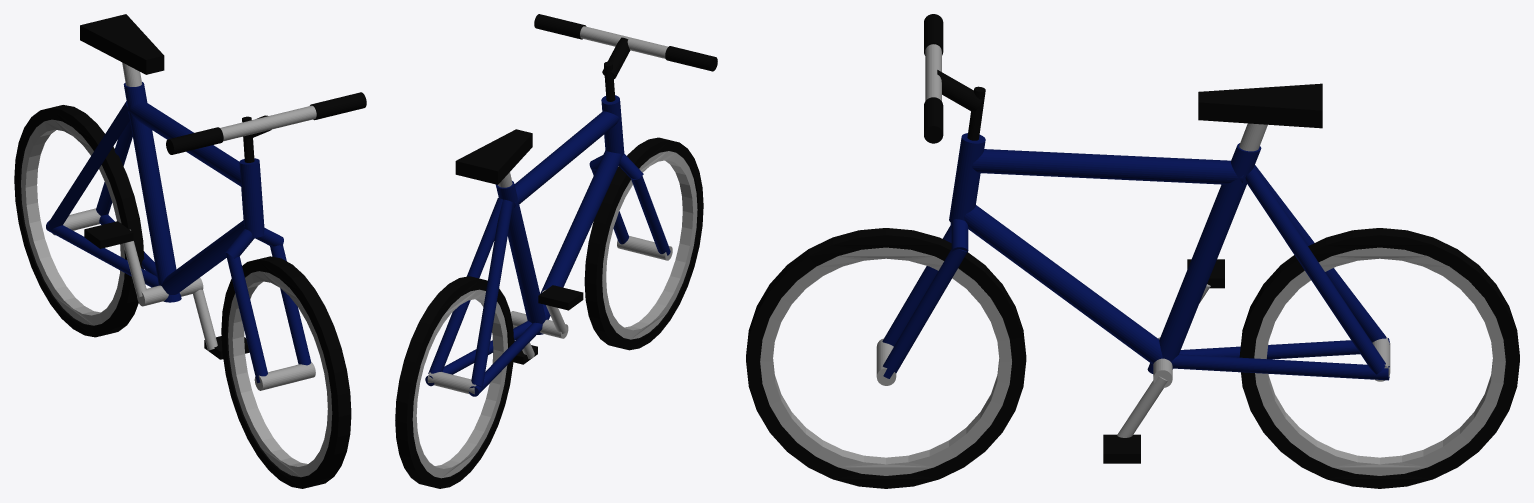
The model's file is bicycle.obj.
3 renders of one model, left to right at view 1: azimuth 30°, elevation 25°; view 2: azimuth 150°, elevation 25°; view 3: azimuth 270°, elevation 25°, orthographic. The views are drawn at different scales.
Parts seen in each view (by area): view 1: Cylinder_8, Circle_5, 2, 7, 1, 6, 4, 3; view 2: Cylinder_8, Circle_5, 2, 7, 1, 6, 3, 4; view 3: Cylinder_8, Circle_5, 2, 1, 6, 7, 3, 4.
Part boxes in pixels (x1=…): Cylinder_8: x1=46, y1=82, x2=310, y2=383; Circle_5: x1=14, y1=105, x2=351, y2=488; 2: x1=21, y1=119, x2=332, y2=477; 7: x1=52, y1=62, x2=316, y2=390; 1: x1=80, y1=14, x2=164, y2=74; 6: x1=166, y1=92, x2=366, y2=162; 4: x1=123, y1=229, x2=217, y2=350; 3: x1=84, y1=221, x2=249, y2=359; Cylinder_8: x1=425, y1=95, x2=670, y2=396; Circle_5: x1=395, y1=137, x2=703, y2=488; 2: x1=412, y1=151, x2=697, y2=478; 7: x1=427, y1=26, x2=672, y2=394; 1: x1=455, y1=129, x2=532, y2=184; 6: x1=534, y1=14, x2=717, y2=101; 3: x1=513, y1=285, x2=583, y2=364; 4: x1=513, y1=290, x2=567, y2=358; Cylinder_8: x1=882, y1=133, x2=1389, y2=380; Circle_5: x1=746, y1=228, x2=1519, y2=488; 2: x1=760, y1=247, x2=1505, y2=475; 1: x1=1198, y1=83, x2=1322, y2=128; 6: x1=924, y1=14, x2=985, y2=143; 7: x1=876, y1=44, x2=1390, y2=387; 3: x1=1103, y1=259, x2=1224, y2=463; 4: x1=1117, y1=284, x2=1210, y2=437.
Bounding box in the file's own units: 54.5 × 94.2 × 159.
